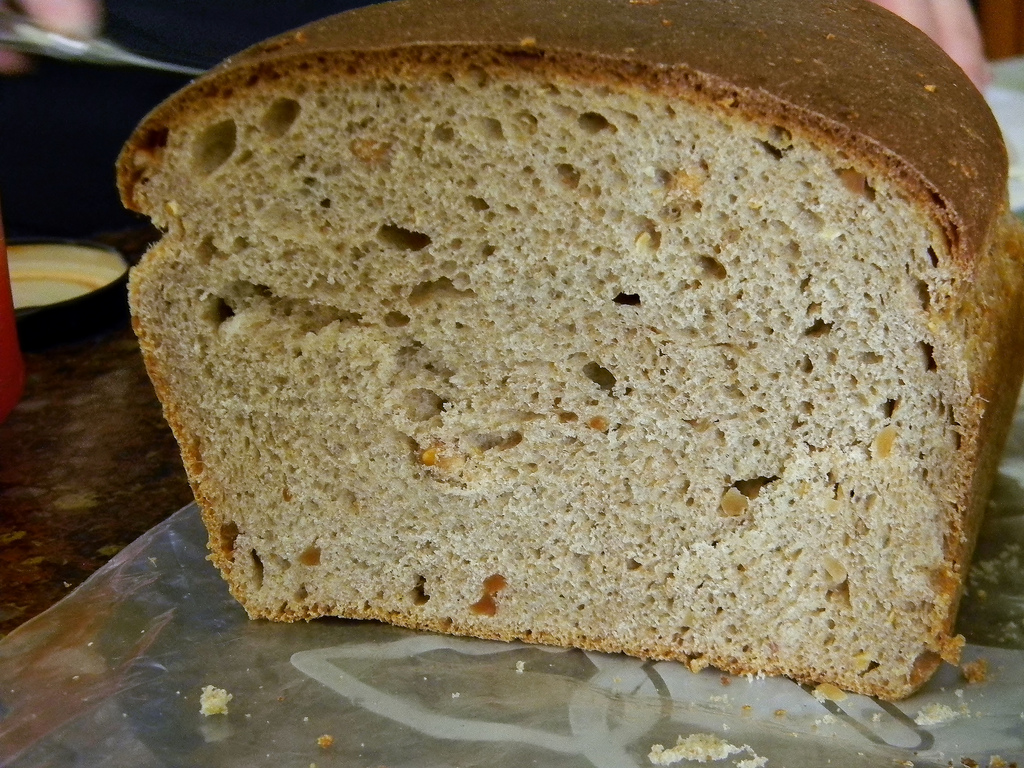slice of bread: (105, 2, 1024, 706)
